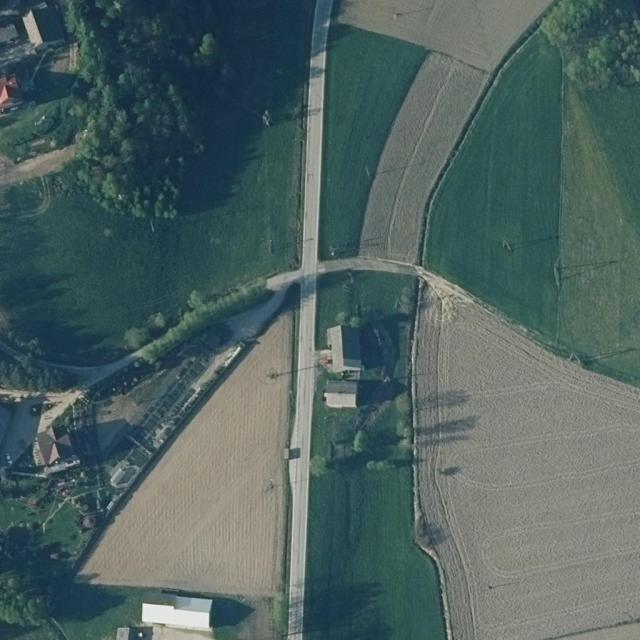agricultural_land: (0, 117, 344, 384), (78, 300, 295, 603), (304, 271, 446, 639), (421, 30, 565, 341), (269, 21, 429, 272), (344, 46, 490, 275)
building: (25, 424, 80, 479), (21, 1, 67, 49), (326, 324, 363, 373), (0, 75, 22, 111), (324, 392, 356, 408), (0, 23, 19, 43)
greenland: (132, 268, 274, 368), (0, 524, 61, 627), (0, 352, 78, 396)
unmetalled_road: (0, 390, 83, 460), (222, 280, 304, 348), (67, 352, 143, 391), (317, 255, 424, 276), (0, 388, 76, 404), (264, 265, 305, 294), (35, 358, 70, 374), (0, 340, 20, 361)
